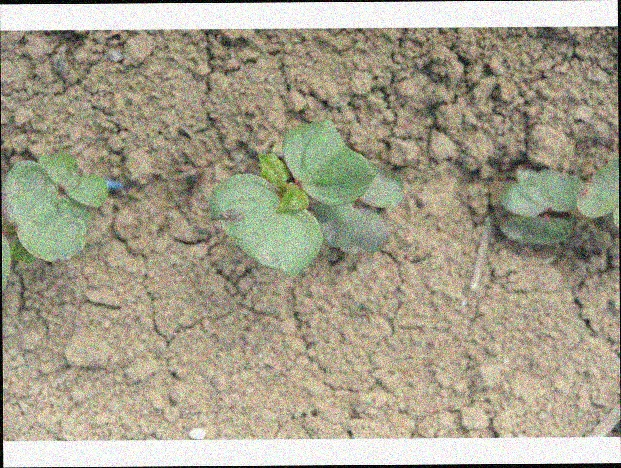cotton: (208, 116, 405, 274), (1, 151, 108, 281), (500, 153, 619, 245)
